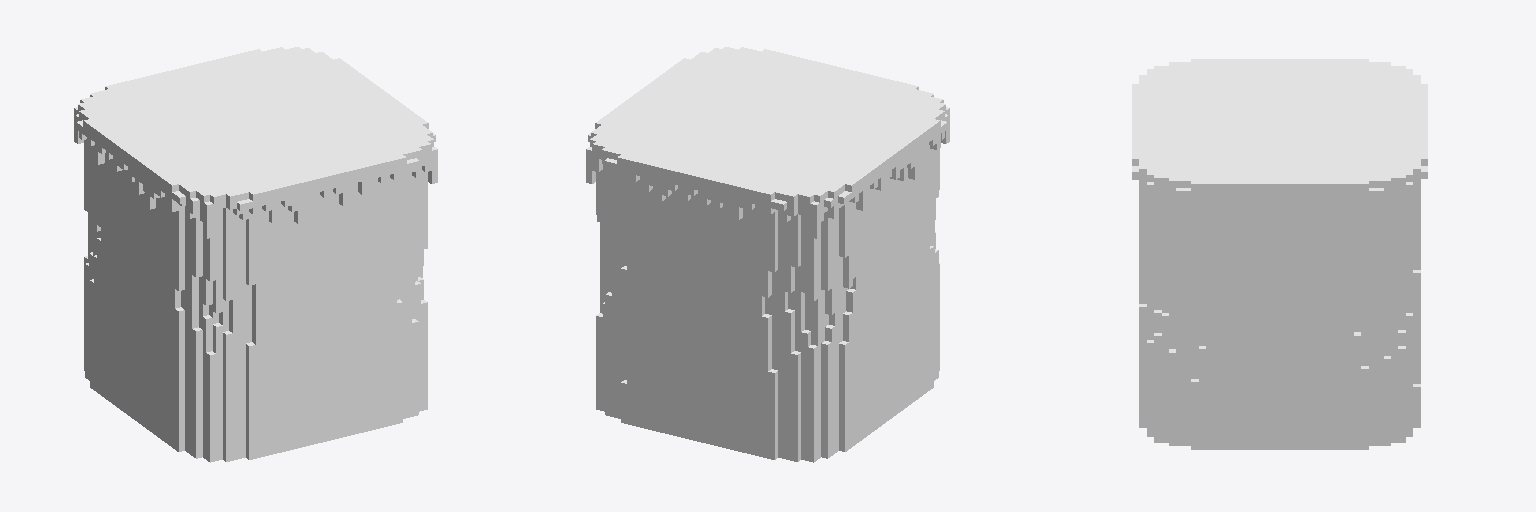
File: ground_40_40_40.obj
3 views of the same model, side by side, from view 1: azimuth 30°, elevation 25°; view 2: azimuth 150°, elevation 25°; view 3: azimuth 270°, elevation 25° (orthographic).
Visible parts, largest first — view 1: object 1; view 2: object 1; view 3: object 1.
Boxes of the visible parts, <box> form: object 1: <box>74,47,437,462</box>; object 1: <box>586,47,949,462</box>; object 1: <box>1132,59,1427,449</box>.
Size of the model in its own units: 4 by 4 by 4.